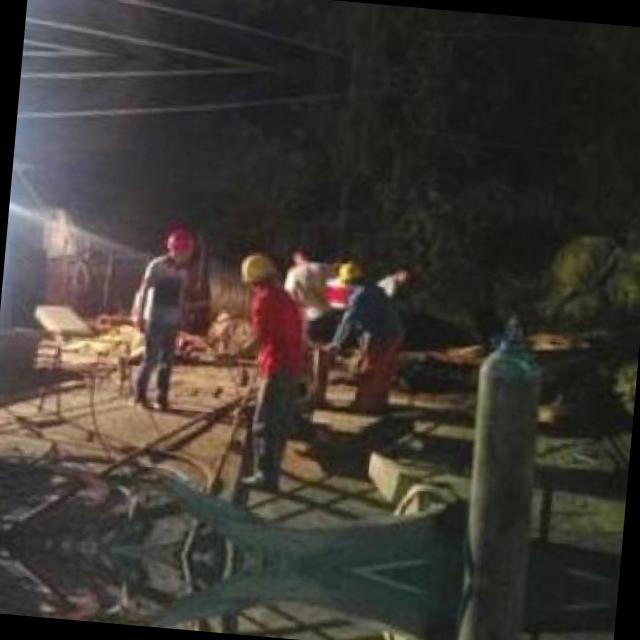helmet: (237, 248, 284, 304), (157, 217, 203, 269), (334, 258, 368, 292)
